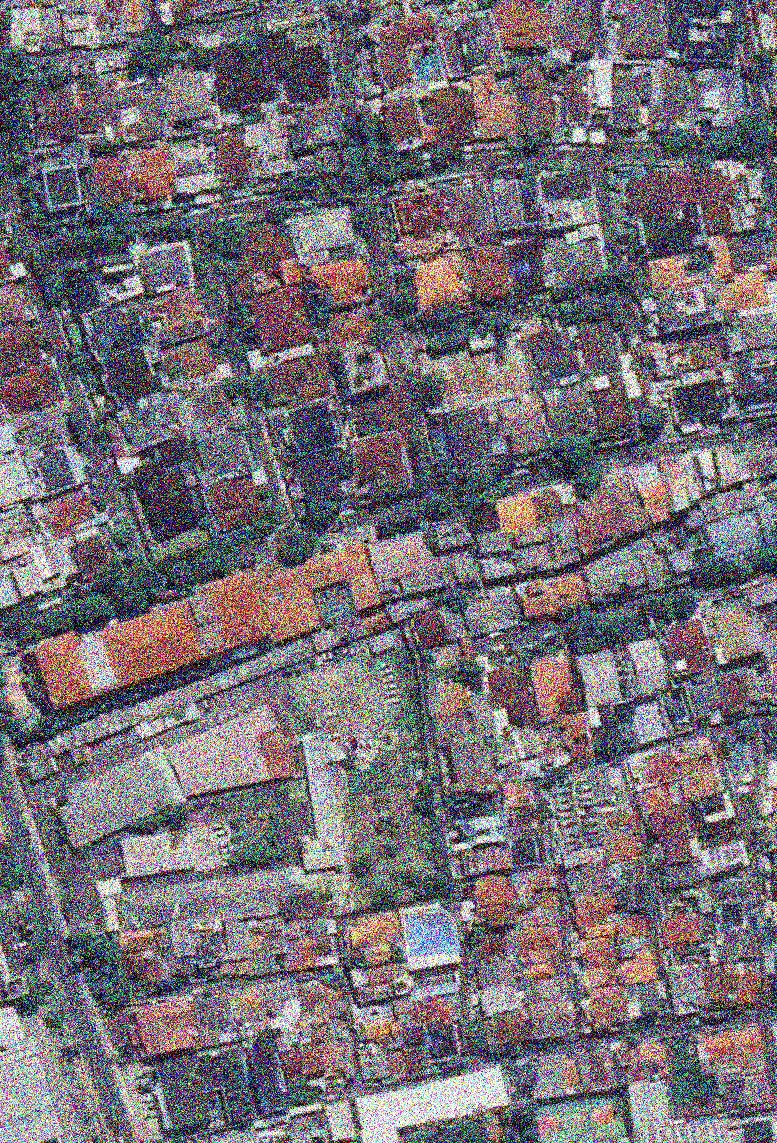building: (30, 627, 341, 777), (25, 565, 273, 718), (161, 701, 307, 821), (93, 855, 306, 932), (249, 526, 385, 643), (49, 746, 185, 852), (350, 1062, 512, 1143), (148, 1041, 261, 1143), (117, 434, 217, 549), (277, 731, 349, 875), (337, 382, 420, 499), (0, 1007, 64, 1143), (360, 0, 445, 94), (574, 531, 670, 608), (571, 473, 654, 555), (246, 347, 338, 418), (96, 386, 184, 459), (283, 440, 366, 517), (431, 4, 507, 85), (379, 184, 455, 265), (79, 293, 155, 373), (492, 515, 584, 581), (263, 30, 335, 111), (512, 310, 584, 391), (500, 567, 594, 629), (284, 198, 363, 270), (655, 669, 732, 742), (137, 279, 216, 350), (438, 400, 511, 475), (203, 36, 274, 113), (370, 78, 441, 155), (95, 70, 166, 146), (396, 891, 461, 974), (247, 281, 317, 358), (542, 777, 601, 867), (243, 1027, 293, 1132), (511, 560, 593, 623), (30, 79, 103, 149), (119, 823, 218, 874), (548, 67, 615, 141), (30, 477, 106, 542), (668, 0, 740, 67), (269, 398, 345, 461), (699, 590, 762, 666), (0, 538, 65, 611), (526, 649, 590, 723), (541, 221, 611, 288), (183, 421, 255, 486), (634, 331, 722, 384), (533, 161, 601, 229), (148, 333, 221, 396), (393, 543, 478, 597), (531, 1047, 617, 1100), (326, 331, 394, 398), (95, 341, 163, 408), (407, 249, 475, 316), (126, 996, 195, 1062), (303, 249, 376, 311), (199, 471, 268, 536), (504, 857, 568, 927), (171, 374, 237, 441), (436, 177, 499, 246), (51, 517, 116, 583), (0, 351, 67, 415), (693, 437, 768, 494), (458, 874, 519, 944), (366, 524, 437, 584), (231, 219, 302, 279), (572, 639, 633, 708), (455, 238, 516, 306), (585, 375, 644, 445), (260, 625, 342, 675), (11, 397, 80, 456), (284, 104, 342, 174), (487, 169, 544, 240), (25, 438, 89, 501), (421, 680, 477, 752), (130, 234, 197, 294), (622, 163, 699, 215), (654, 278, 725, 333), (633, 205, 707, 257), (407, 593, 471, 653), (613, 0, 672, 65), (468, 70, 522, 141), (493, 485, 568, 536), (670, 732, 726, 800), (654, 614, 713, 678), (242, 113, 298, 180), (681, 482, 757, 531), (505, 233, 556, 306), (538, 376, 595, 441), (423, 80, 478, 147), (650, 62, 698, 137), (55, 236, 133, 282), (695, 163, 745, 234), (487, 663, 538, 731), (487, 0, 551, 53), (647, 246, 716, 295), (549, 0, 607, 58), (496, 391, 548, 455), (692, 68, 745, 130), (460, 584, 520, 638), (610, 62, 651, 141), (702, 506, 763, 559), (668, 374, 732, 424), (586, 697, 642, 754), (623, 629, 672, 694), (569, 939, 629, 992), (124, 143, 178, 201), (633, 1113, 744, 1141), (40, 156, 95, 212), (159, 67, 211, 125), (448, 731, 498, 791), (190, 988, 239, 1049), (575, 315, 622, 378), (508, 921, 561, 975), (61, 0, 121, 47), (711, 658, 758, 718), (442, 812, 506, 855), (612, 1037, 668, 1086), (716, 1064, 772, 1112), (623, 744, 680, 791), (87, 153, 133, 211), (472, 961, 522, 1014), (168, 136, 215, 192), (579, 978, 624, 1036), (384, 1023, 429, 1080), (518, 68, 555, 137), (10, 1, 61, 51), (618, 978, 667, 1029), (294, 973, 342, 1025), (658, 454, 701, 512), (564, 885, 617, 931), (408, 978, 462, 1023), (583, 60, 613, 141), (0, 318, 42, 374), (524, 997, 575, 1043), (634, 775, 688, 818), (348, 907, 403, 949), (231, 980, 272, 1036), (558, 707, 599, 763), (59, 263, 103, 315), (697, 838, 750, 881), (528, 719, 569, 774), (587, 761, 629, 813), (448, 844, 511, 878), (649, 824, 699, 866), (628, 1080, 669, 1131), (210, 130, 250, 182), (643, 803, 696, 842), (484, 1007, 533, 1049), (636, 476, 678, 525), (501, 1058, 544, 1105), (422, 1018, 465, 1065), (657, 908, 706, 949), (492, 491, 537, 535), (263, 978, 304, 1026), (1, 449, 32, 510), (501, 800, 546, 842), (564, 501, 599, 555), (710, 442, 751, 488), (611, 910, 658, 950), (694, 815, 742, 854), (693, 1025, 731, 1074), (0, 500, 35, 553), (464, 690, 501, 740), (354, 1036, 393, 1083), (631, 694, 668, 743), (351, 959, 409, 990), (324, 307, 372, 344), (688, 790, 736, 827), (279, 890, 334, 922), (219, 920, 252, 973), (703, 968, 741, 1012), (714, 267, 749, 314), (463, 928, 505, 967), (615, 944, 654, 985), (730, 1028, 764, 1075), (157, 0, 213, 28), (248, 932, 281, 979), (564, 861, 608, 896), (322, 1098, 356, 1143), (432, 517, 475, 552), (668, 970, 701, 1015), (717, 316, 756, 354), (597, 829, 640, 863), (311, 914, 338, 968), (0, 281, 31, 328), (298, 1034, 331, 1078), (0, 951, 28, 1002), (598, 803, 640, 837), (320, 1037, 351, 1083), (610, 881, 654, 913), (495, 776, 536, 809), (116, 0, 155, 34), (282, 931, 313, 973), (465, 503, 502, 538), (278, 1039, 308, 1081), (486, 731, 519, 769), (359, 1015, 405, 1042), (708, 899, 748, 930), (204, 922, 226, 977), (657, 860, 700, 888), (521, 970, 558, 1002), (510, 724, 542, 761), (705, 231, 731, 276), (513, 542, 552, 572), (429, 641, 467, 671), (725, 347, 748, 395), (510, 837, 550, 864), (720, 929, 750, 965), (356, 608, 392, 638), (364, 628, 400, 658), (479, 554, 517, 582), (361, 936, 394, 968), (665, 545, 696, 578), (475, 529, 514, 555), (647, 527, 680, 557), (610, 858, 644, 887), (553, 518, 581, 553), (627, 461, 662, 489), (707, 878, 749, 901), (494, 761, 526, 786), (226, 275, 255, 302), (738, 964, 759, 1001), (278, 254, 301, 285), (456, 636, 481, 663), (0, 244, 12, 285), (228, 356, 246, 381), (402, 600, 429, 606)
tree: (103, 555, 175, 623), (561, 599, 645, 654), (118, 22, 179, 84), (73, 933, 128, 988), (545, 424, 599, 477), (86, 963, 140, 1016), (633, 583, 684, 636), (400, 1112, 487, 1143), (29, 237, 68, 305), (271, 520, 321, 573), (606, 253, 656, 302), (357, 138, 404, 188), (186, 539, 240, 582), (223, 18, 274, 63), (66, 586, 116, 631), (660, 1036, 693, 1103), (212, 519, 274, 554), (341, 190, 382, 241), (374, 498, 426, 538), (207, 214, 250, 262), (342, 99, 383, 149), (737, 107, 774, 161), (128, 803, 189, 835), (0, 596, 42, 637), (431, 579, 473, 619), (691, 556, 753, 583), (0, 836, 29, 893), (519, 630, 566, 665), (565, 464, 605, 504), (60, 919, 100, 958), (283, 1070, 323, 1109), (35, 601, 76, 638), (229, 836, 276, 868), (425, 296, 463, 335), (411, 365, 449, 404), (501, 1103, 539, 1142), (28, 707, 66, 744), (655, 121, 692, 158), (62, 338, 97, 377), (386, 277, 421, 316), (460, 461, 500, 495), (139, 219, 203, 240), (15, 904, 46, 947), (426, 329, 475, 355), (0, 45, 24, 97), (412, 871, 451, 903), (700, 126, 745, 153), (0, 86, 28, 129), (306, 495, 341, 529), (206, 325, 235, 365), (321, 174, 355, 208), (638, 399, 672, 433), (304, 289, 332, 330), (366, 482, 411, 507), (454, 487, 487, 521), (679, 244, 716, 274), (83, 193, 116, 226), (165, 558, 198, 591), (346, 0, 378, 34), (13, 618, 47, 650), (454, 657, 486, 690), (92, 555, 126, 586), (0, 696, 24, 739), (318, 962, 350, 993), (3, 117, 33, 150), (479, 478, 512, 508), (410, 435, 428, 489), (19, 937, 50, 968), (398, 147, 427, 180), (425, 828, 445, 875), (51, 224, 90, 248), (733, 714, 763, 745), (233, 318, 257, 356), (667, 587, 702, 613), (431, 139, 463, 167), (412, 789, 439, 822), (339, 163, 368, 193), (430, 451, 461, 479), (90, 416, 112, 455), (8, 138, 36, 168), (745, 544, 776, 571), (436, 1053, 467, 1080), (64, 408, 88, 442), (520, 124, 549, 152), (355, 410, 384, 438), (555, 299, 583, 327), (602, 298, 628, 328), (576, 298, 607, 323), (424, 491, 455, 516), (10, 724, 38, 751), (44, 61, 70, 90), (593, 265, 619, 294), (525, 449, 555, 474), (215, 259, 242, 286), (118, 544, 146, 570), (416, 763, 442, 791), (24, 973, 53, 998), (186, 41, 210, 71), (552, 280, 583, 303), (304, 176, 330, 203), (441, 469, 467, 496), (388, 868, 427, 886), (370, 885, 397, 911), (339, 947, 366, 973), (91, 137, 122, 159), (699, 1003, 730, 1025), (283, 177, 308, 204), (108, 203, 133, 230), (482, 1039, 510, 1063), (112, 222, 138, 247), (370, 308, 388, 344), (240, 364, 268, 387), (348, 855, 371, 883), (262, 819, 285, 847), (87, 484, 109, 513), (603, 128, 628, 153), (245, 381, 271, 405), (371, 816, 398, 839), (21, 69, 50, 90), (340, 140, 361, 168), (737, 59, 761, 83), (187, 243, 211, 267), (182, 544, 214, 562), (663, 696, 685, 722), (88, 221, 116, 241), (693, 149, 717, 172), (227, 299, 250, 323), (267, 200, 289, 225), (621, 1027, 646, 1049), (688, 1084, 713, 1106), (366, 792, 389, 815), (489, 317, 511, 341), (541, 769, 566, 790), (715, 734, 735, 760), (158, 549, 181, 571), (558, 152, 580, 174), (111, 524, 133, 546), (470, 1029, 490, 1052), (422, 523, 439, 550), (467, 320, 491, 339), (84, 572, 105, 593), (377, 840, 398, 861), (553, 602, 575, 622), (263, 499, 280, 524), (20, 198, 40, 219), (624, 232, 643, 254), (8, 239, 25, 263), (755, 44, 775, 64), (60, 213, 80, 233), (225, 380, 244, 401), (199, 276, 213, 304), (691, 1070, 711, 1089), (162, 363, 181, 382), (238, 420, 255, 441), (546, 61, 564, 80), (272, 844, 293, 860), (245, 105, 263, 123), (0, 154, 12, 181), (29, 209, 47, 226), (504, 54, 518, 75), (732, 26, 748, 44), (522, 161, 540, 177), (258, 480, 275, 496), (18, 175, 34, 191), (506, 1042, 522, 1058), (544, 303, 559, 320), (0, 10, 12, 30), (685, 1058, 700, 1074), (641, 308, 655, 323), (762, 227, 776, 242), (46, 219, 61, 232), (20, 189, 34, 202), (317, 329, 328, 345), (285, 449, 297, 463), (407, 316, 421, 328), (241, 555, 255, 567), (645, 158, 657, 171), (606, 175, 617, 188), (684, 1034, 694, 1045), (767, 247, 777, 257), (610, 159, 619, 170), (727, 0, 739, 7)
